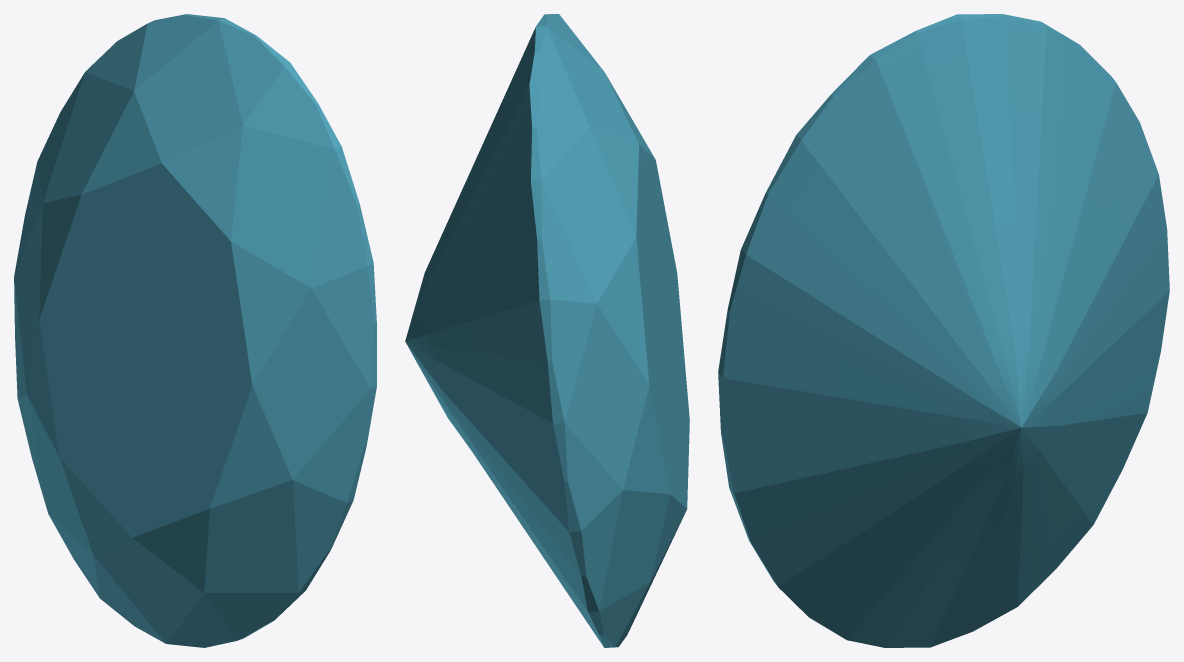
File: BL5_8shapes_Oval_Classic_Stone.001 2.glb
3 views of the same model, side by side, from view 1: azimuth 30°, elevation 25°; view 2: azimuth 150°, elevation 25°; view 3: azimuth 270°, elevation 25° (orthographic). The views are drawn at different scales.
Parts seen in each view (by area): view 1: BL5_8shapes_Oval_Classic_Stone.001; view 2: BL5_8shapes_Oval_Classic_Stone.001; view 3: BL5_8shapes_Oval_Classic_Stone.001.
Part boxes in pixels (<box>): BL5_8shapes_Oval_Classic_Stone.001: <box>14,14,376,647</box>; BL5_8shapes_Oval_Classic_Stone.001: <box>405,14,689,647</box>; BL5_8shapes_Oval_Classic_Stone.001: <box>718,14,1169,647</box>.
Size of the model in its own units: 0.2512 by 0.5709 by 0.3519.
